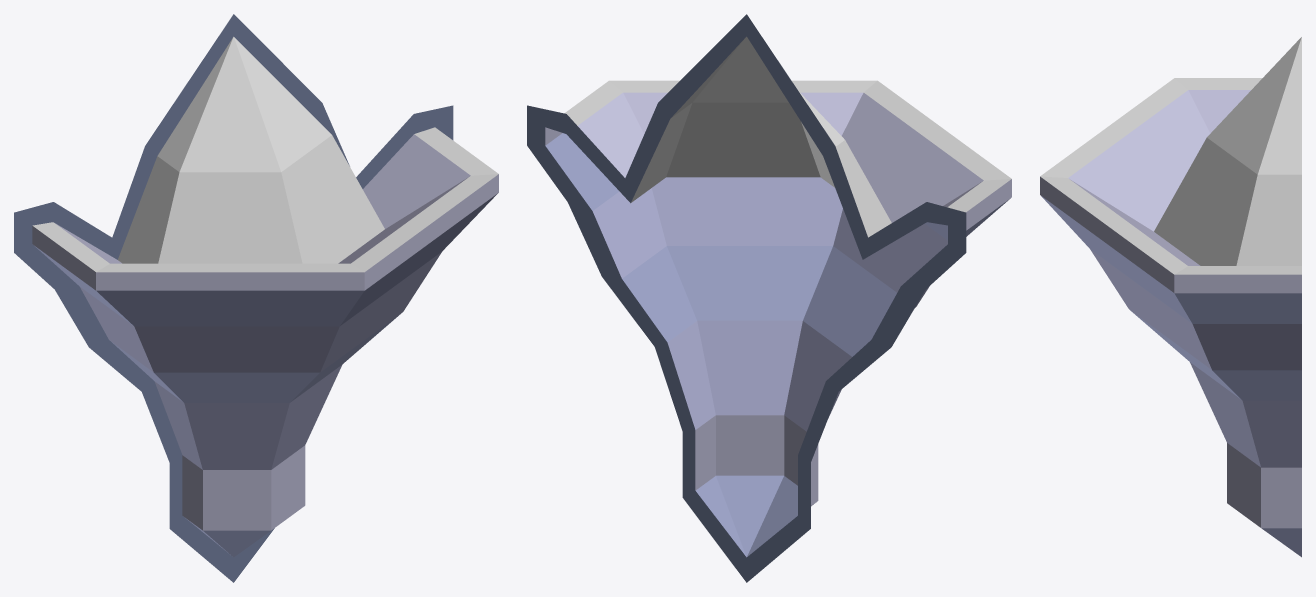
Rendered from Prop_Lamp_Wall.fbx.
The picture shows the model from 3 angles, left to right: view 1: azimuth 30°, elevation 25°; view 2: azimuth 150°, elevation 25°; view 3: azimuth 270°, elevation 25°; orthographic projection.
Parts seen in each view (by area): view 1: Lamp_Wall; view 2: Lamp_Wall; view 3: Lamp_Wall.
Part boxes in pixels (x1=…): Lamp_Wall: x1=14, y1=14, x2=498, y2=582; Lamp_Wall: x1=527, y1=14, x2=1011, y2=582; Lamp_Wall: x1=1040, y1=37, x2=1301, y2=557.
Bounding box in the file's own units: 166 × 205 × 85.46.
